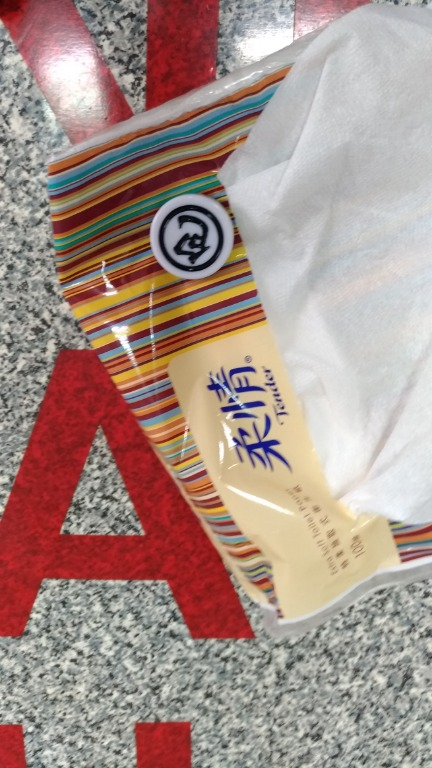b-cannon: (133, 188, 254, 302)
